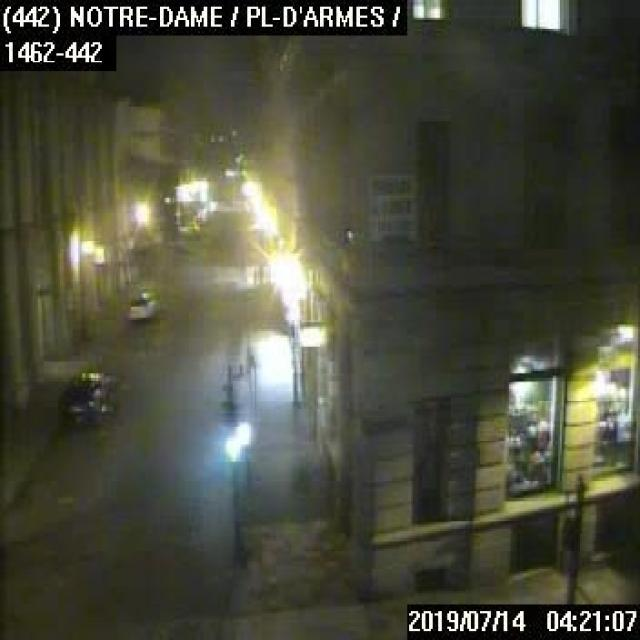vehicle: (56, 367, 113, 420), (124, 287, 158, 322)
